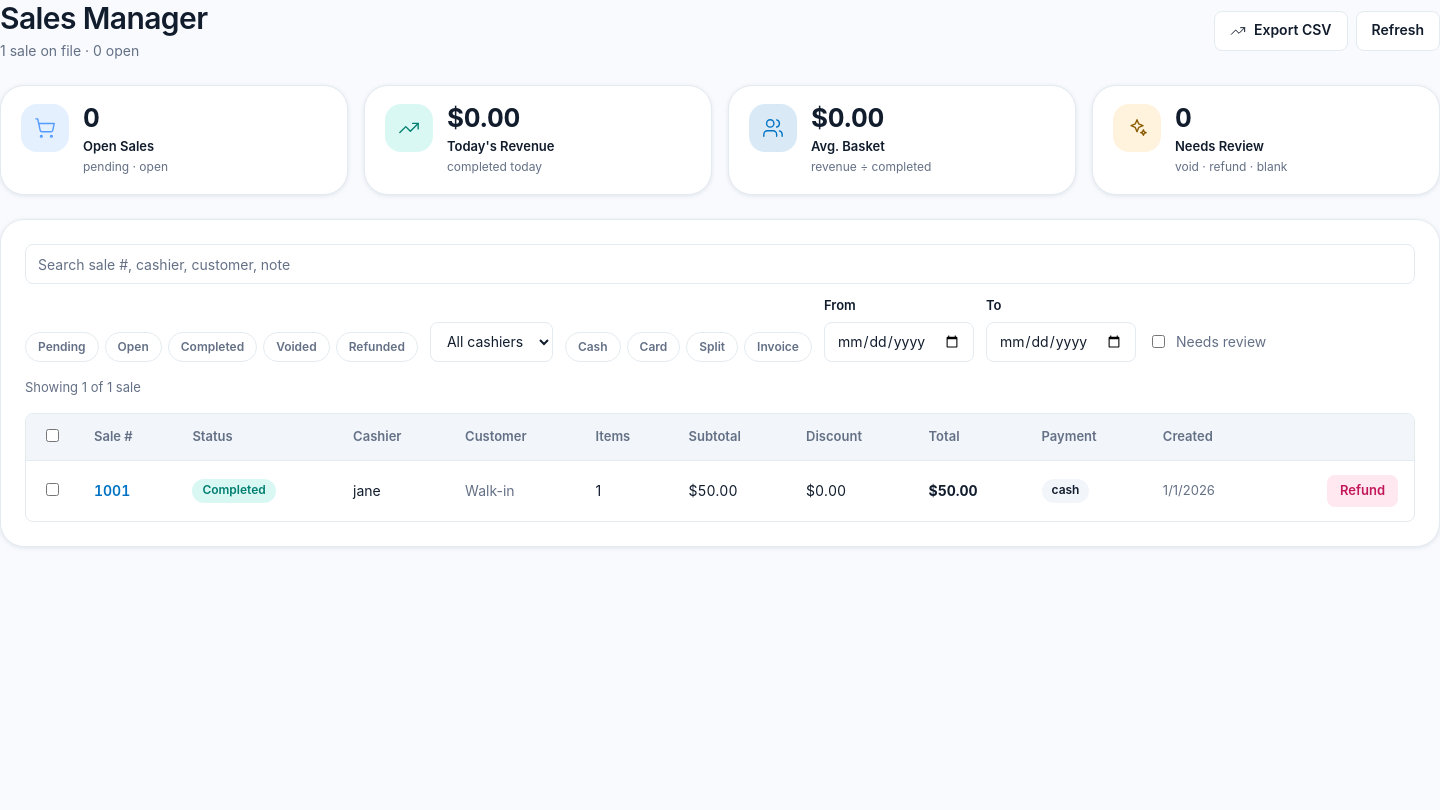
SalesManagerPage — manager actions › refunds a completed sale only when a reason is provided
Click the button with test id "action-refund" at (1362,491), box [1327,475,1398,507]
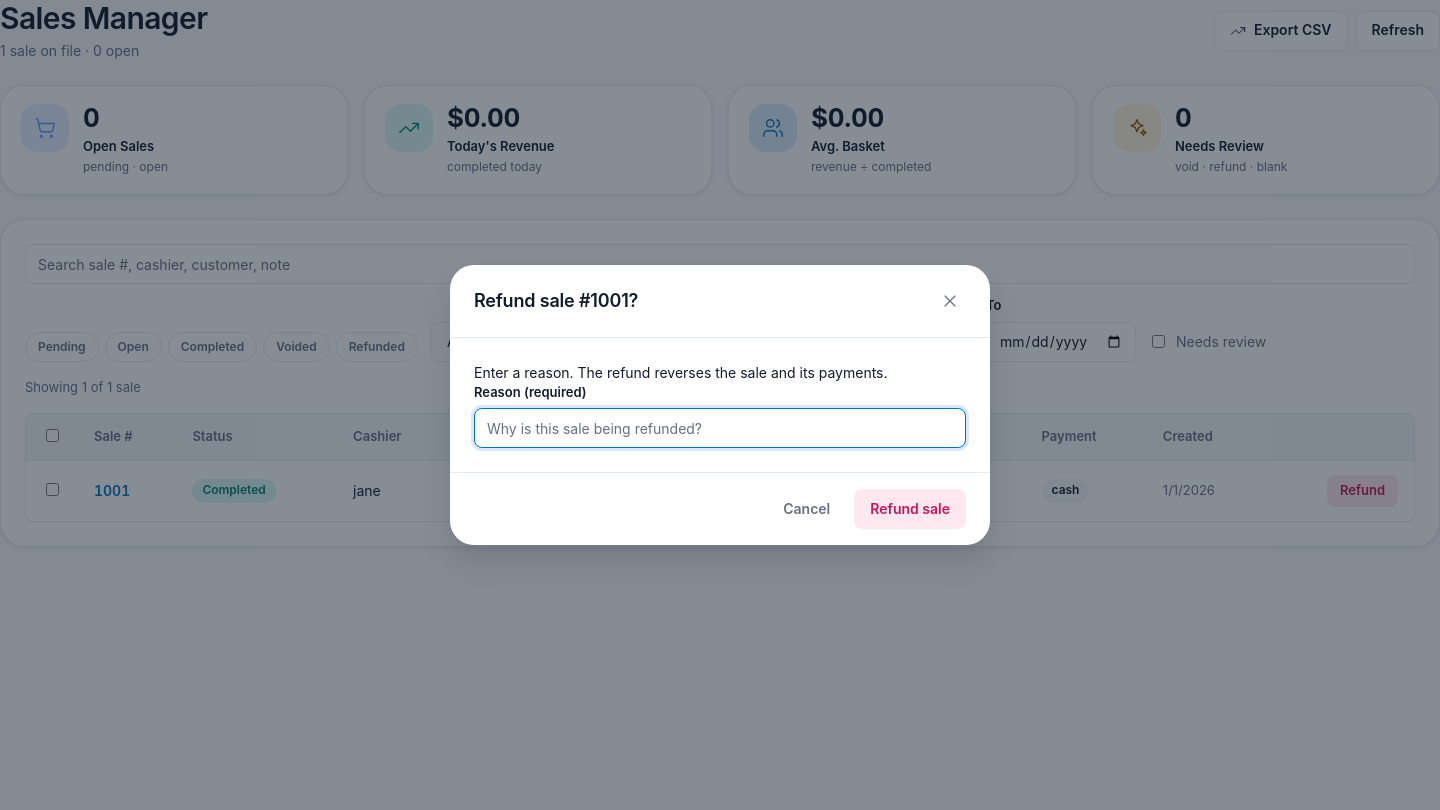
// No reason yet — clicking confirm must not call the API.
Click the button with test id "action-confirm" at (910,509), box [854,489,966,529]
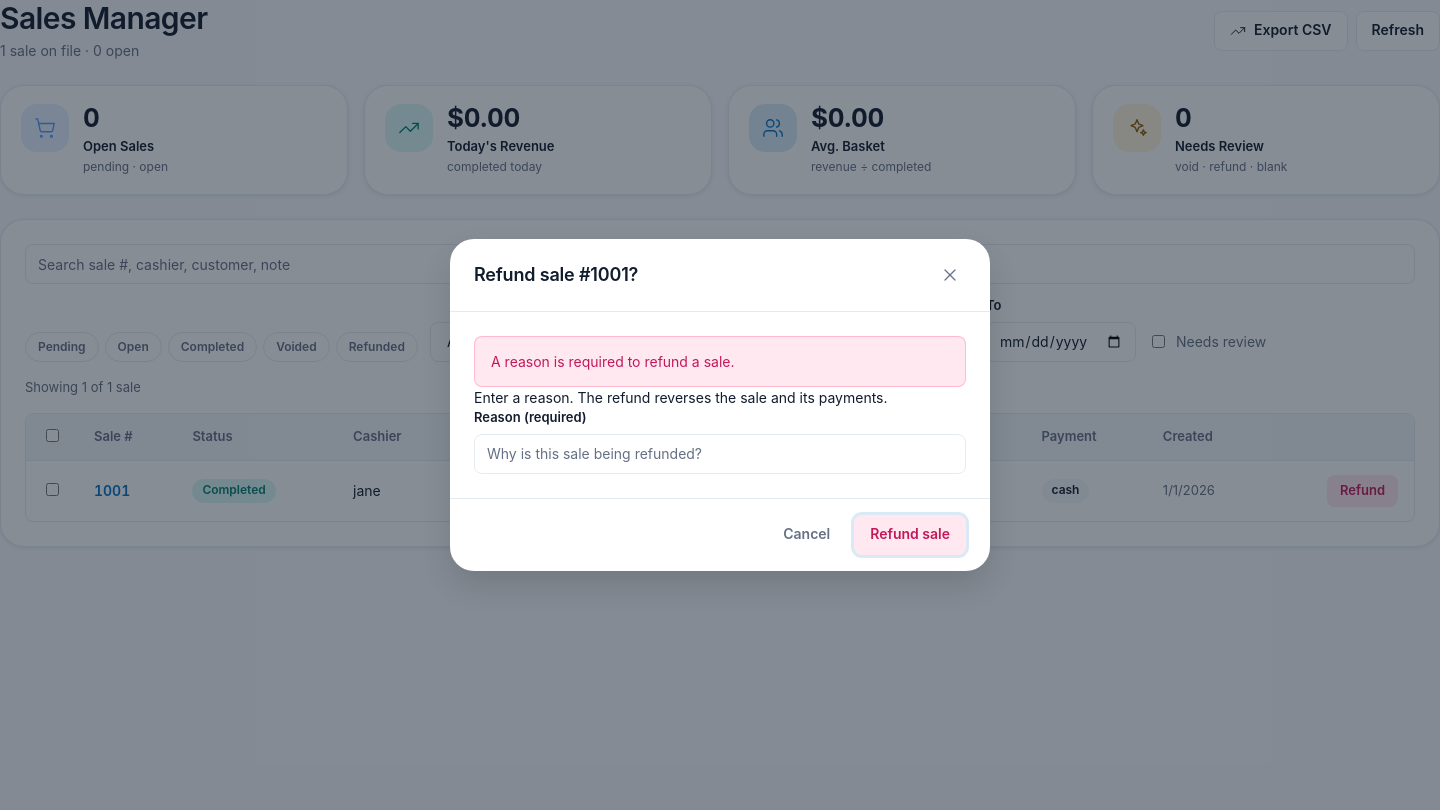
Result: the message shows "reason is required" at [491,353,734,370]
Type "Customer changed mind" into the field labelled "Reason (required)" at (720,454), box [474,434,966,474]
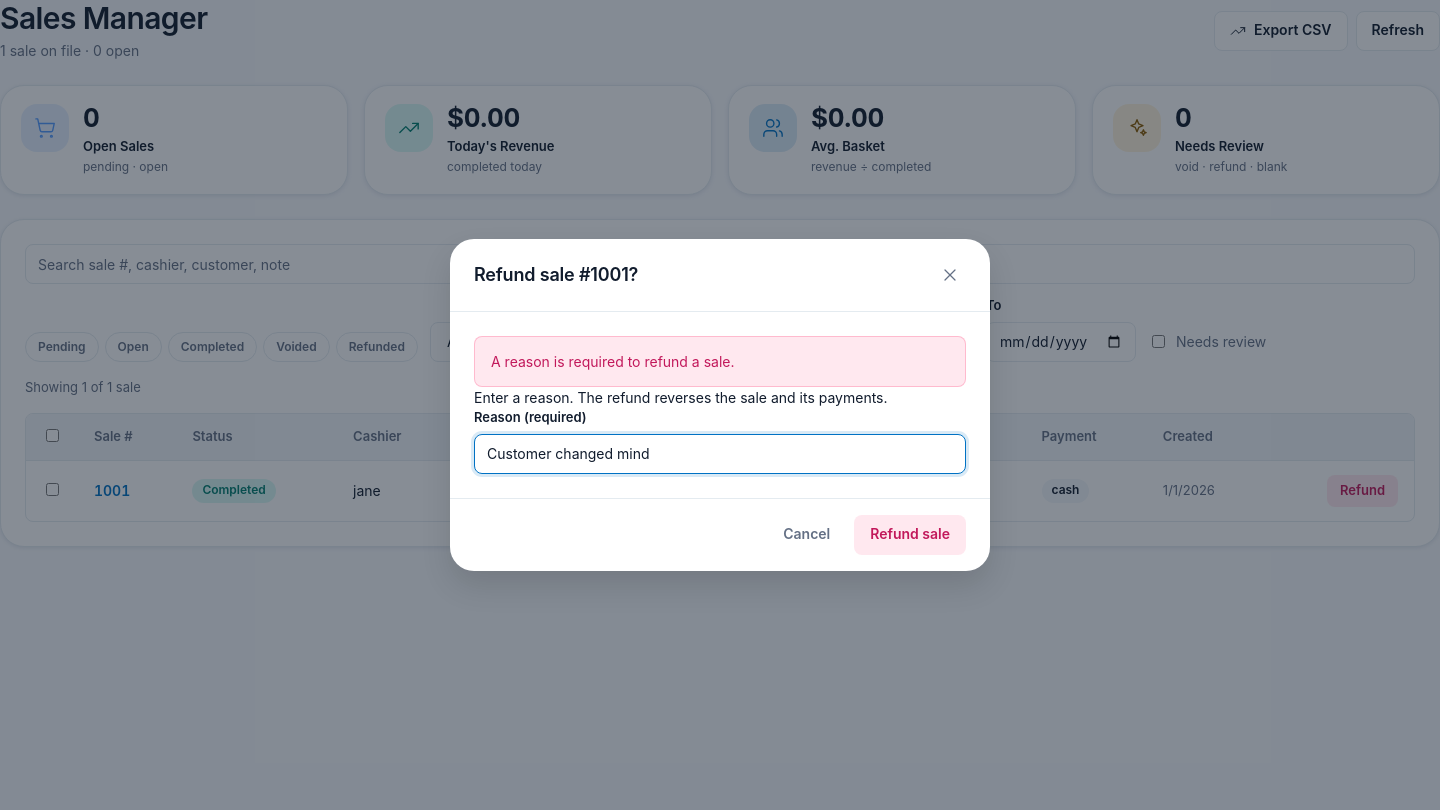
Click the button with test id "action-confirm" at (910,535), box [854,515,966,555]
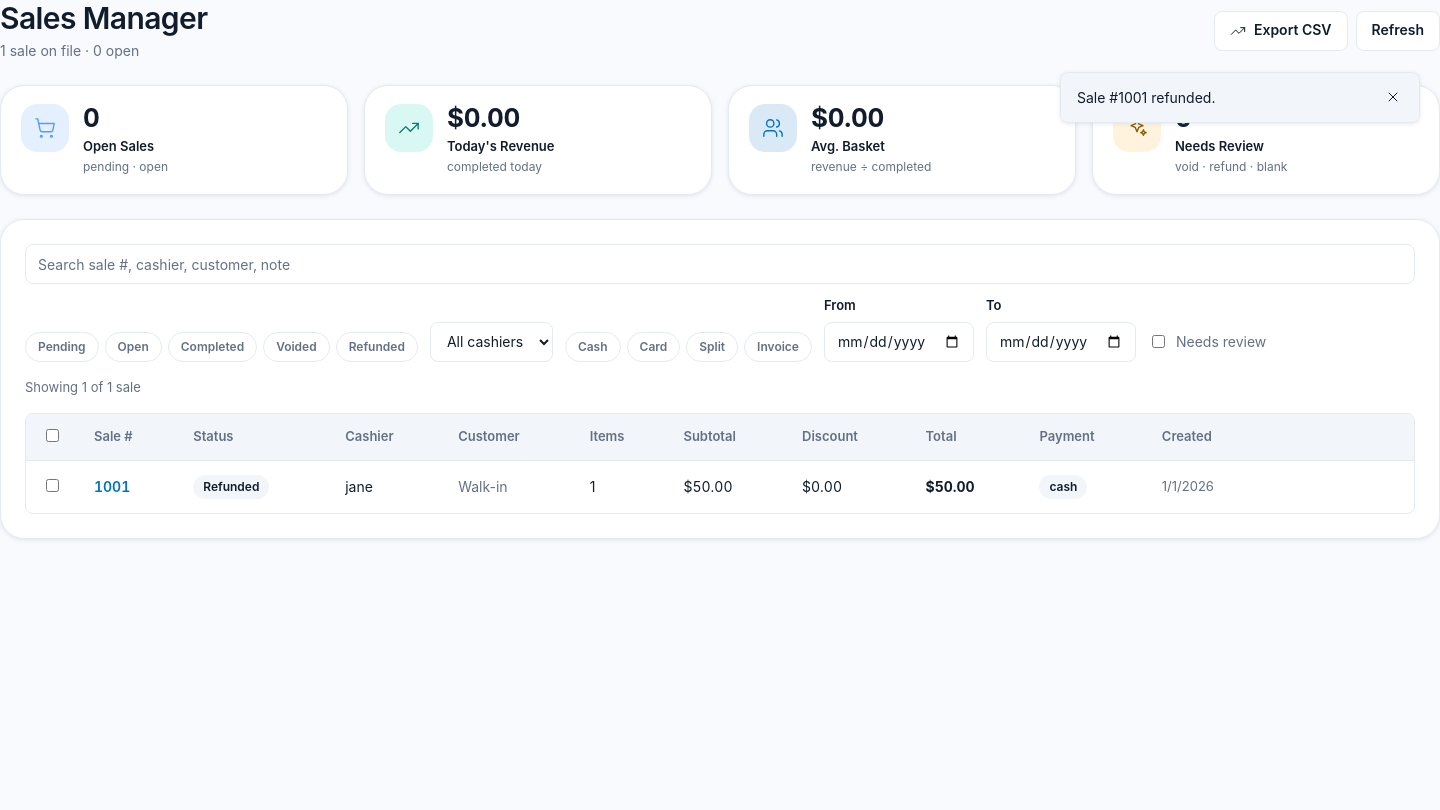
Result: the text "Refunded" is shown at [193,475,269,499]
